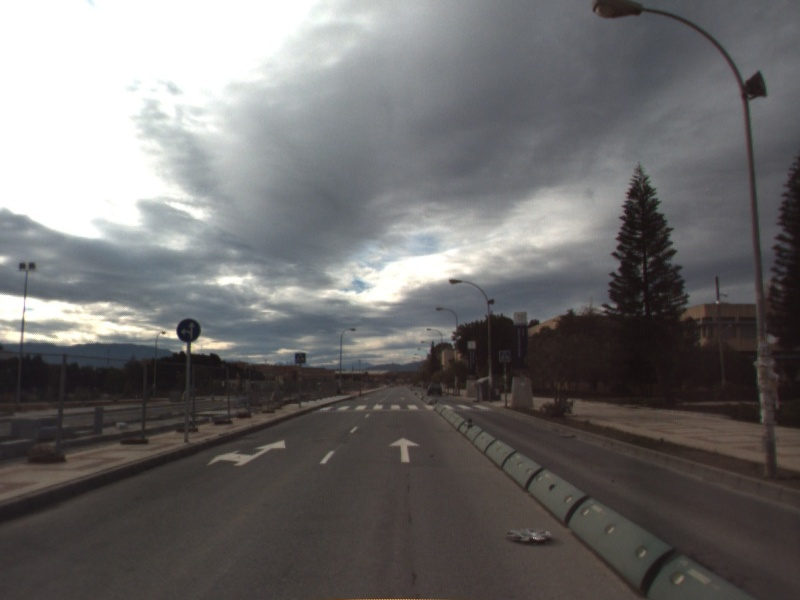STRAIGHT: (387, 435, 423, 464)
STRAIGHT_LEFT: (204, 438, 288, 468)
